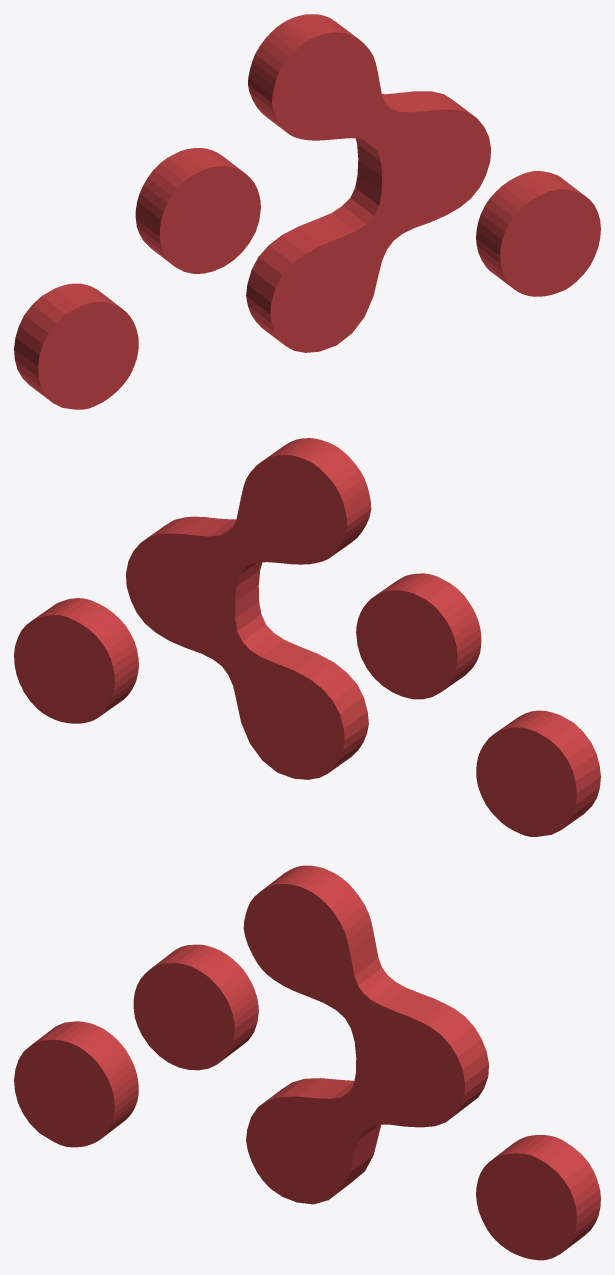
The model's file is Reactrouter_model.glb.
The picture shows the model from 3 angles, top to bottom: view 1: azimuth 30°, elevation 25°; view 2: azimuth 150°, elevation 25°; view 3: azimuth 330°, elevation 25°; orthographic projection.
Parts seen in each view (by area): view 1: Curve; view 2: Curve; view 3: Curve.
Part boxes in pixels (x1,y1,x2,y2): Curve: (14,14,600,409); Curve: (14,438,600,836); Curve: (14,865,600,1260).
Bounding box in the file's own units: 0.6773 × 0.3693 × 0.0566.
